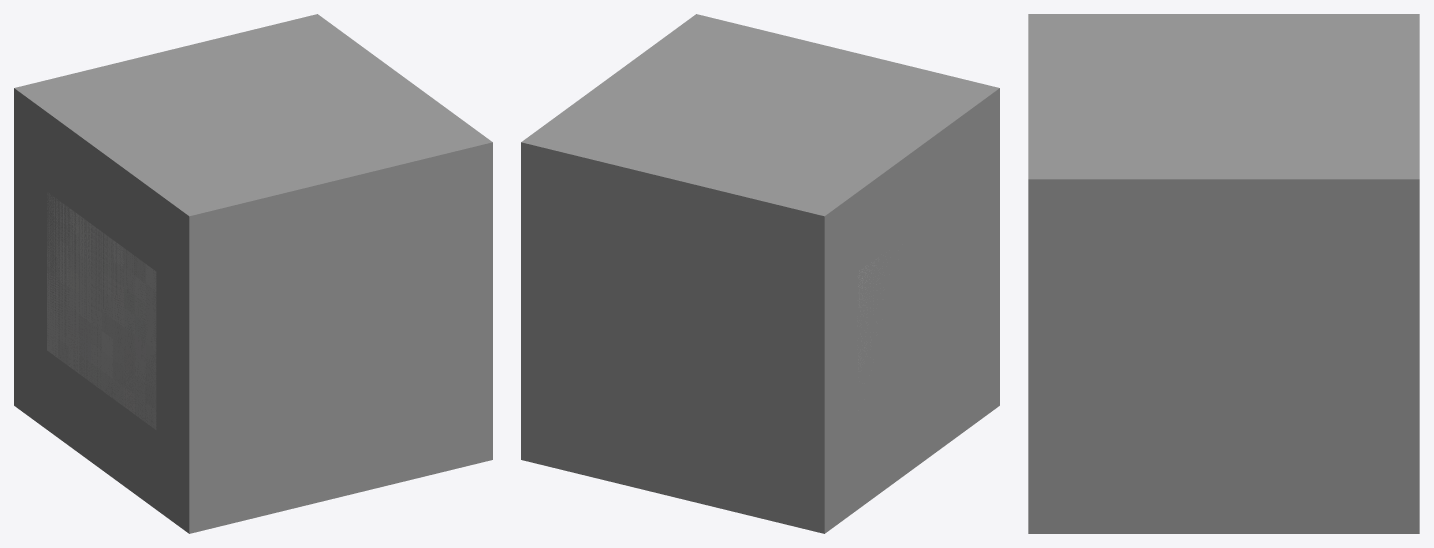
The model's file is lampsupply.obj.
3 renders of one model, left to right at view 1: azimuth 30°, elevation 25°; view 2: azimuth 150°, elevation 25°; view 3: azimuth 270°, elevation 25°, orthographic. The views are drawn at different scales.
Visible parts, largest first — view 1: Minecraft_Block_Cube, Minecraft_2_Edge_Connectivity_Cube.002, main; view 2: Minecraft_Block_Cube, Minecraft_2_Edge_Connectivity_Cube.002; view 3: Minecraft_Block_Cube, Minecraft_2_Edge_Connectivity_Cube.002.
Part boxes in pixels (x1=…): Minecraft_Block_Cube: x1=15, y1=14, x2=492, y2=533; Minecraft_2_Edge_Connectivity_Cube.002: x1=14, y1=88, x2=252, y2=533; main: x1=47, y1=193, x2=156, y2=429; Minecraft_Block_Cube: x1=521, y1=14, x2=998, y2=533; Minecraft_2_Edge_Connectivity_Cube.002: x1=760, y1=88, x2=999, y2=533; Minecraft_Block_Cube: x1=1028, y1=14, x2=1419, y2=533; Minecraft_2_Edge_Connectivity_Cube.002: x1=1029, y1=14, x2=1418, y2=96.
Bounding box in the file's own units: 1 × 1 × 1.
2 materials, 1 textured.
